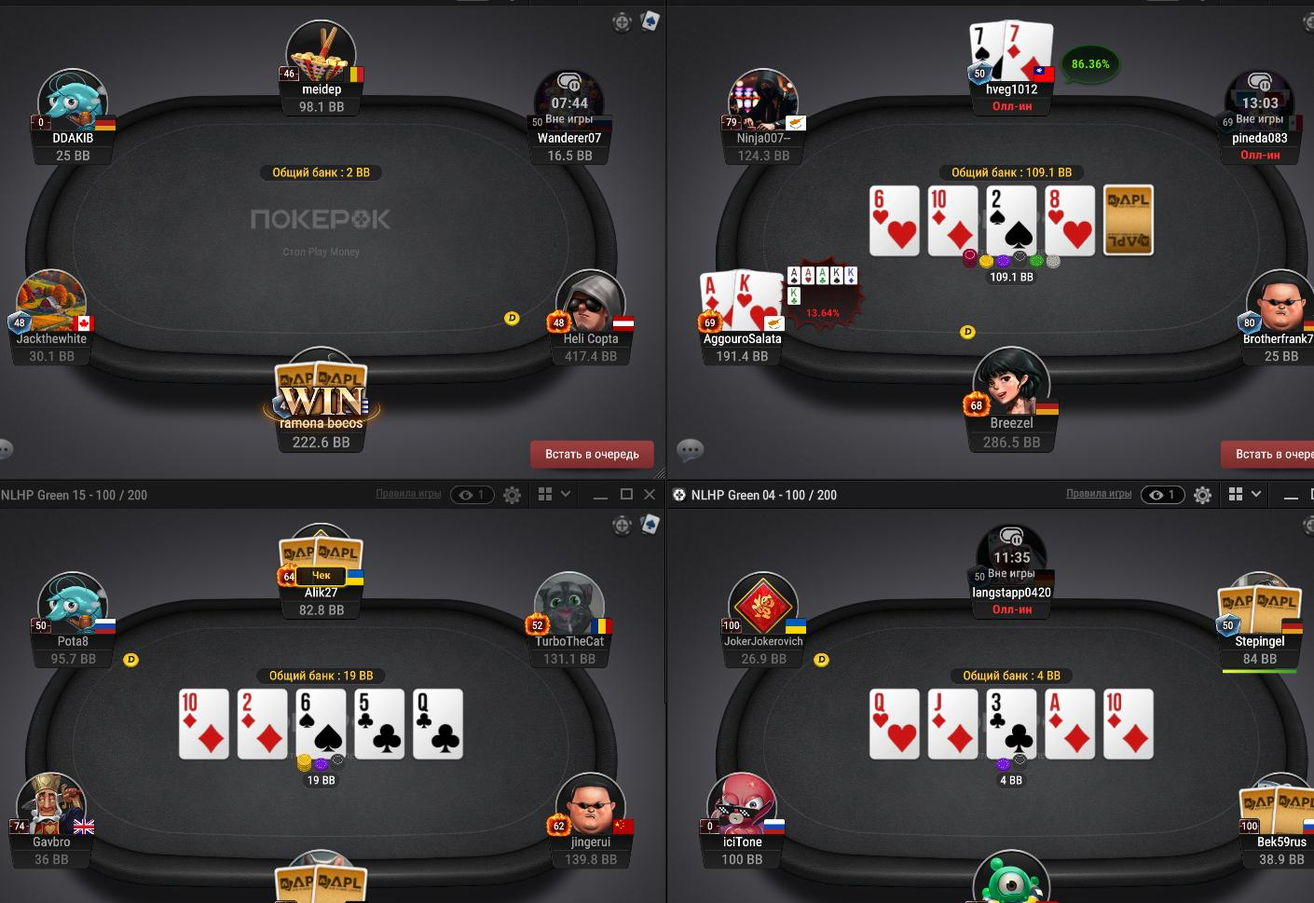10d: (927, 183, 980, 255), (179, 691, 229, 761), (1104, 690, 1152, 757)
2d: (238, 688, 287, 759)
2s: (988, 185, 1034, 252)
3c: (987, 690, 1037, 755)
5c: (355, 688, 403, 755)
6h: (871, 185, 919, 255)
6s: (297, 690, 347, 757)
7d: (1005, 19, 1053, 83)
7s: (969, 22, 1003, 83)
8h: (1045, 186, 1093, 256)
Ad: (1044, 690, 1097, 757), (698, 270, 735, 333)
Jd: (925, 688, 980, 756)
Kh: (734, 266, 783, 335)
Qc: (412, 691, 464, 759)
Qh: (873, 690, 921, 756)
